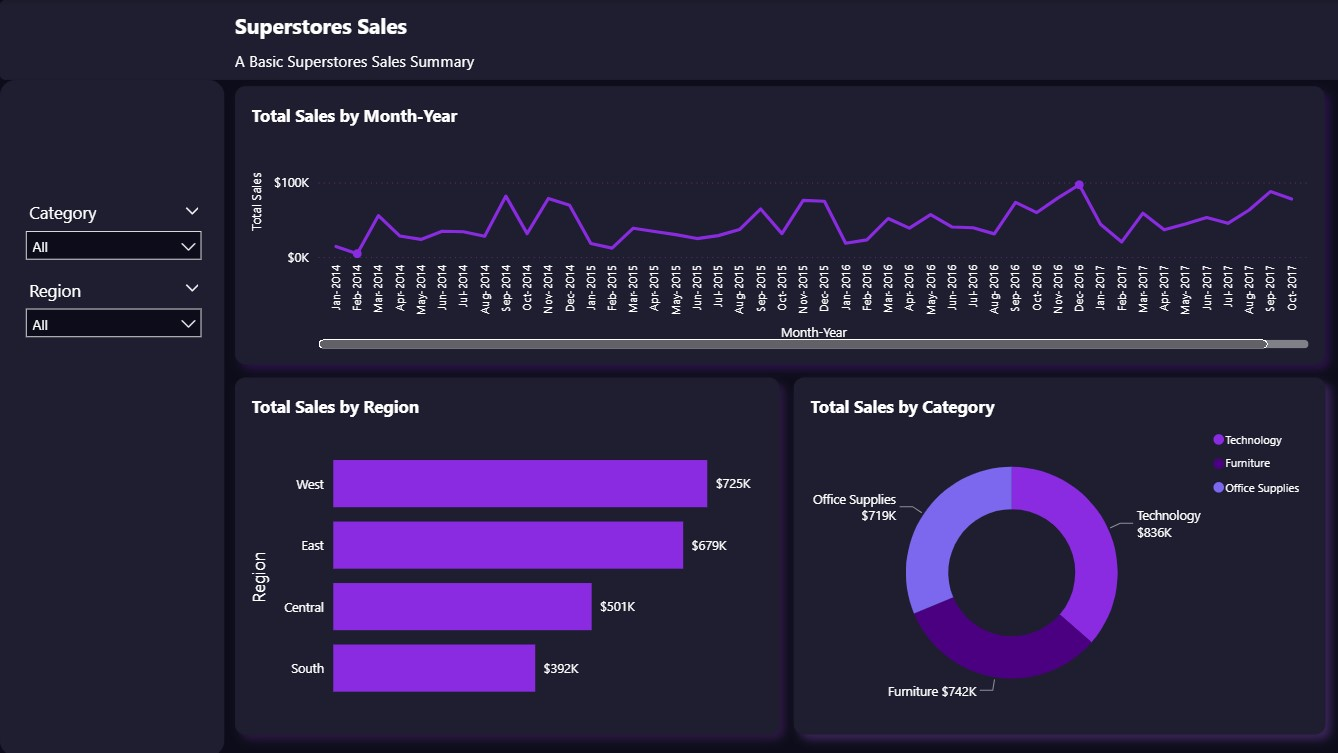

This screenshot's page, from the dashboard's own definition file:
{"tool":"powerbi","page":{"name":"Basic Summary","canvas":[1280,720],"ordinal":0},"visuals":[{"type":"shape","box":[0,76.2,213.8,643.8],"z":0},{"type":"shape","box":[0,0,1280,76.2],"z":1},{"type":"slicer","fields":{"Values":["Sample - Superstore.Category"]},"box":[18.8,190,178.8,88.8],"z":2},{"type":"slicer","fields":{"Values":["Sample - Superstore.Region"]},"box":[18.8,263.8,178.8,83.8],"z":3},{"type":"textbox","title":"Superstores Sales","box":[223.8,11.2,578.8,83.8],"z":4},{"type":"lineChart","fields":{"Y":["Sample - Superstore.Total Sales"],"Category":["Sample - Superstore.Month-Year"]},"box":[223.8,82.5,1037.5,265],"z":5},{"type":"clusteredBarChart","fields":{"Category":["Sample - Superstore.Region"],"Y":["Sample - Superstore.Total Sales"]},"box":[223.8,360,518.8,340],"z":6},{"type":"donutChart","fields":{"Y":["Sample - Superstore.Total Sales"],"Category":["Sample - Superstore.Category"]},"box":[756.2,360,506.2,340],"z":7}]}

Visuals, with their boxes in screenshot pixels (x1, y1, x2, y2), scaled from the page's 1280x720 canvas onto the 1338x753 screenshot:
shape: Rect(0, 80, 223, 752)
shape: Rect(0, 0, 1337, 80)
slicer - Sample - Superstore.Category: Rect(20, 199, 207, 292)
slicer - Sample - Superstore.Region: Rect(20, 276, 207, 364)
"Superstores Sales" textbox: Rect(234, 12, 839, 99)
lineChart - Sample - Superstore.Total Sales x Sample - Superstore.Month-Year: Rect(234, 86, 1318, 363)
clusteredBarChart - Sample - Superstore.Region x Sample - Superstore.Total Sales: Rect(234, 376, 776, 732)
donutChart - Sample - Superstore.Total Sales x Sample - Superstore.Category: Rect(790, 376, 1320, 732)
